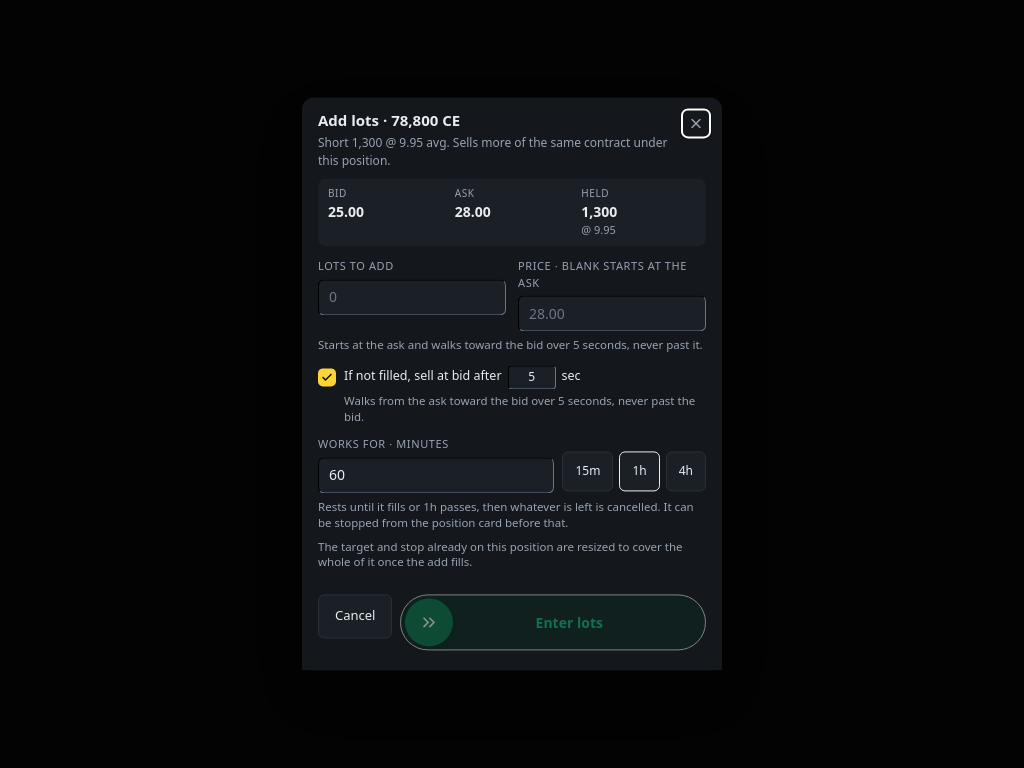
Test: the preview › [critical] sends the body the add will send, and prices it in money
In the field labelled "Lots to add": (412, 297) [318, 279, 506, 315], type "100"
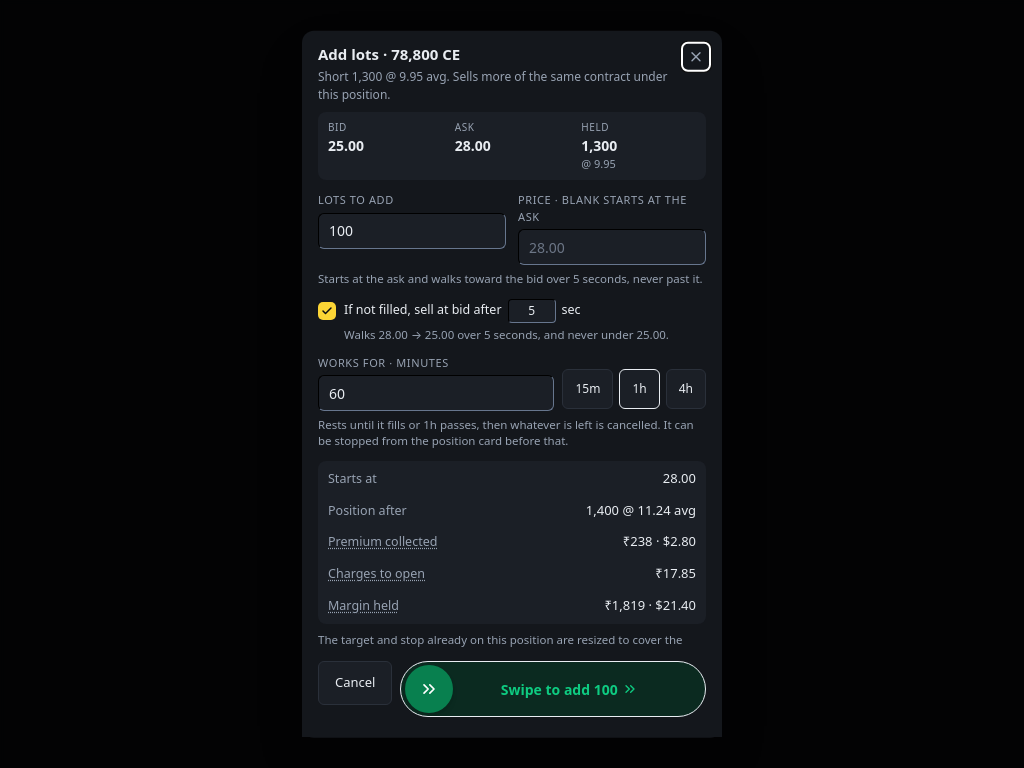
Expected: the 2nd text "28.00" is shown, [663, 468, 696, 488]
Expected: the text "1,400 @ 11.24 avg" is shown, [586, 500, 696, 520]
